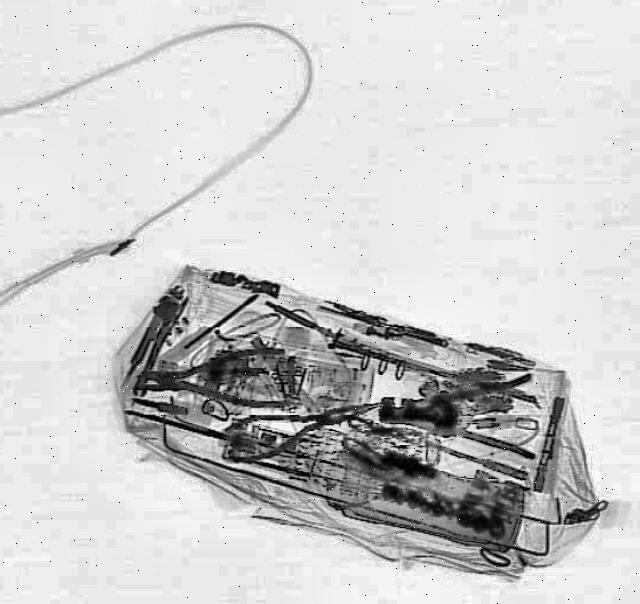Pliers: (378, 368, 544, 462), (223, 386, 391, 470), (136, 351, 292, 409)
